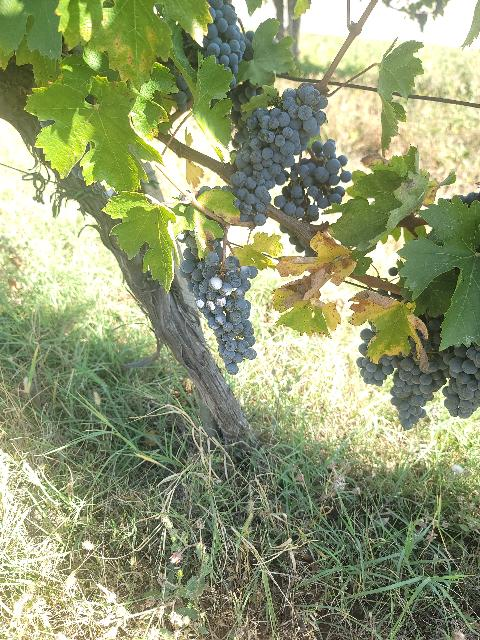grapes: (230, 82, 328, 222), (181, 248, 258, 375), (272, 140, 352, 221), (391, 354, 446, 430), (438, 345, 480, 419), (356, 329, 400, 386)
